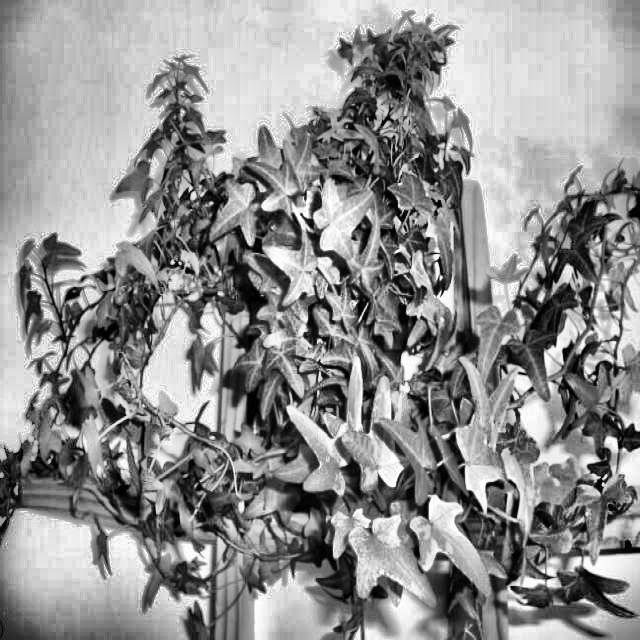plants: (18, 62, 639, 639), (92, 240, 154, 358)
